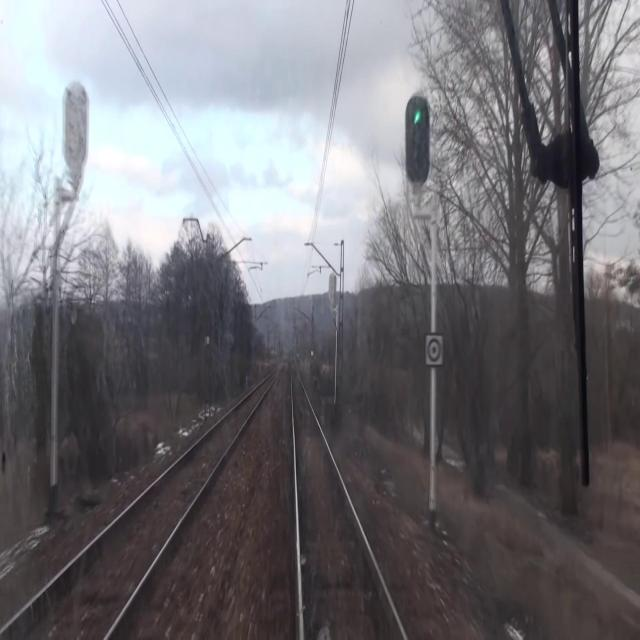rail-track: (0, 373, 274, 639), (292, 360, 403, 639)
